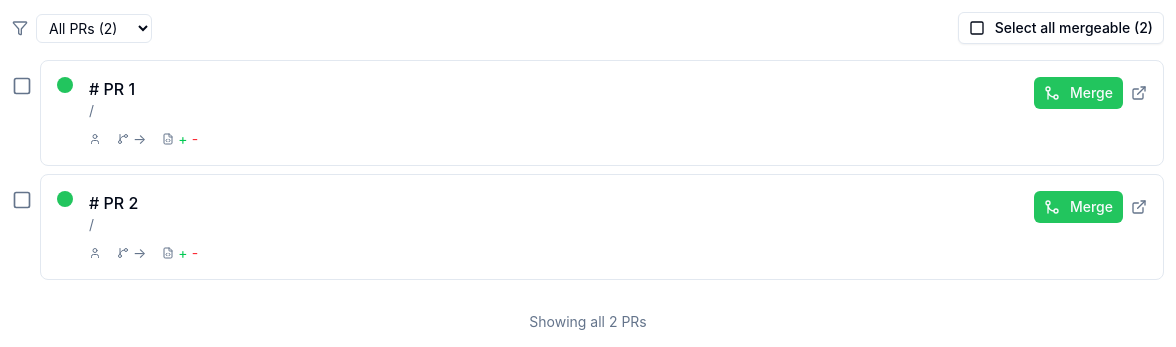
Test: PRListView › Bulk Selection › selects all mergeable PRs
This screenshot has width=1176, height=347.
Step 1. Click the button "Select all mergeable (2)" → (1061, 28), box [958, 12, 1164, 44]
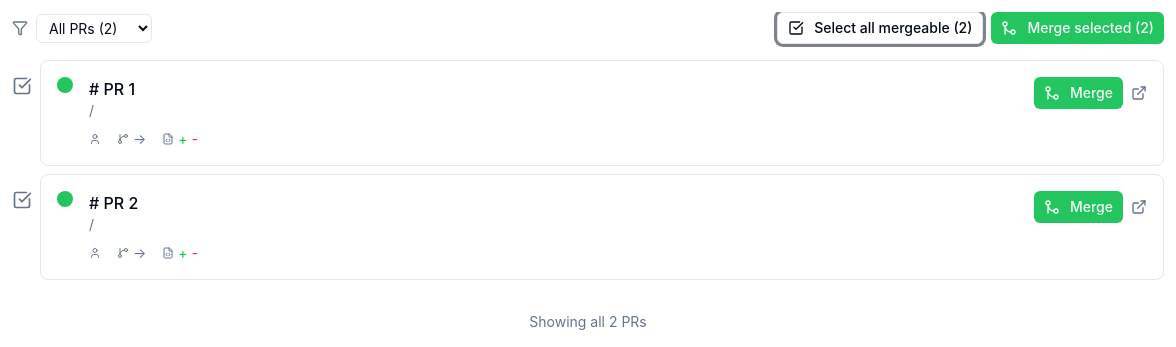
Expected: the button "Merge selected (2)" is shown, [991, 12, 1164, 44]
